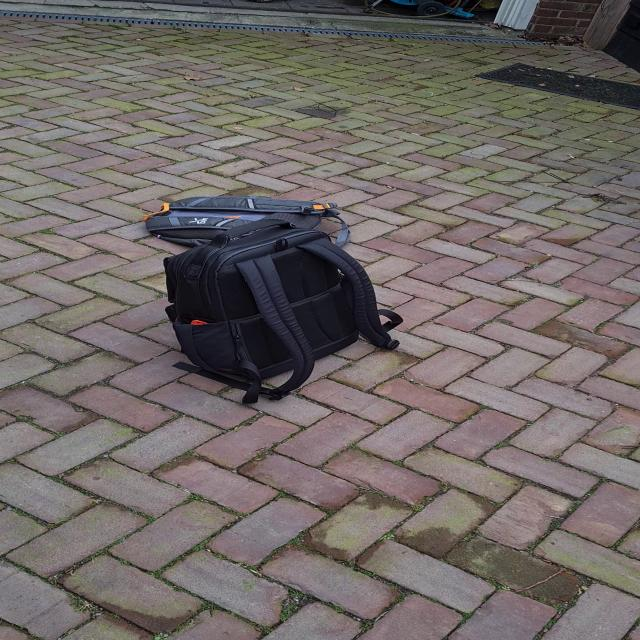backpack: (145, 191, 401, 403), (147, 192, 345, 252)
